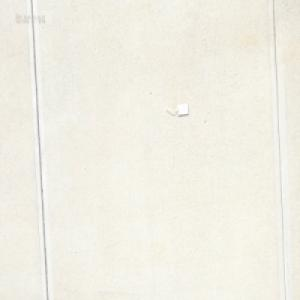LuggageTag: (165, 102, 189, 118)
